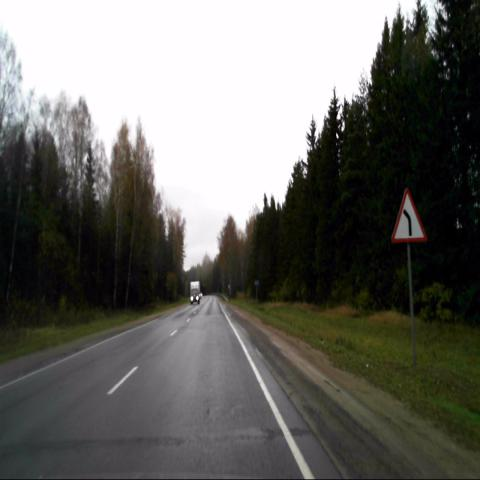1_11_1: (391, 186, 427, 243)
